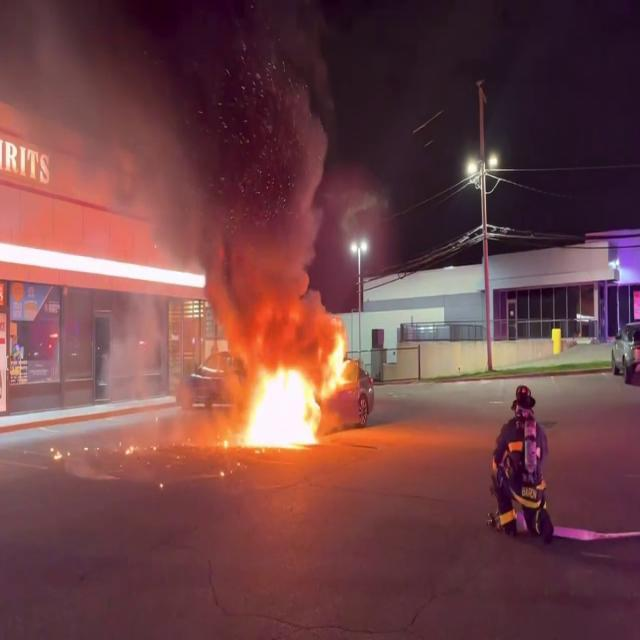Fire: (220, 328, 352, 456)
Smoke: (76, 0, 369, 331)
